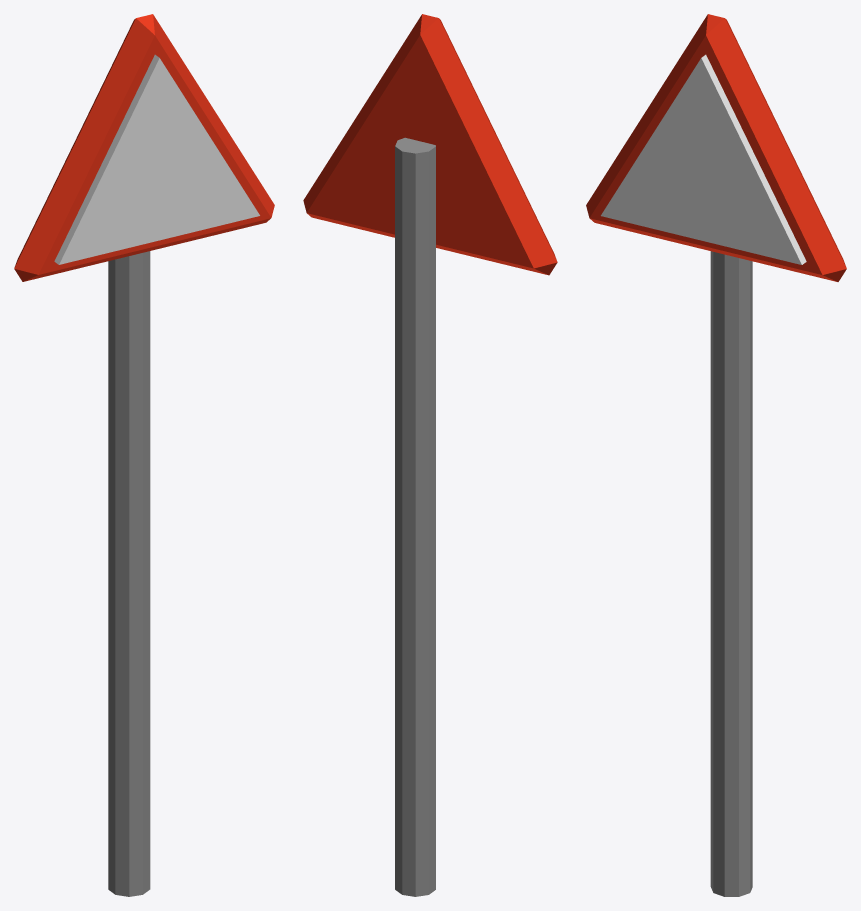
The model's file is quaternius-public-transport-trafficsign-2.glb.
3 views of the same model, side by side, from view 1: azimuth 30°, elevation 25°; view 2: azimuth 150°, elevation 25°; view 3: azimuth 330°, elevation 25° (orthographic). The views are drawn at different scales.
Visible parts, largest first — view 1: TrafficSign; view 2: TrafficSign; view 3: TrafficSign.
Part boxes in pixels (x1,y1,x2,y2): TrafficSign: (14,14,274,896); TrafficSign: (303,14,557,896); TrafficSign: (586,14,846,896).
Bounding box in the file's own units: 0.459 × 1.49 × 0.1249.
